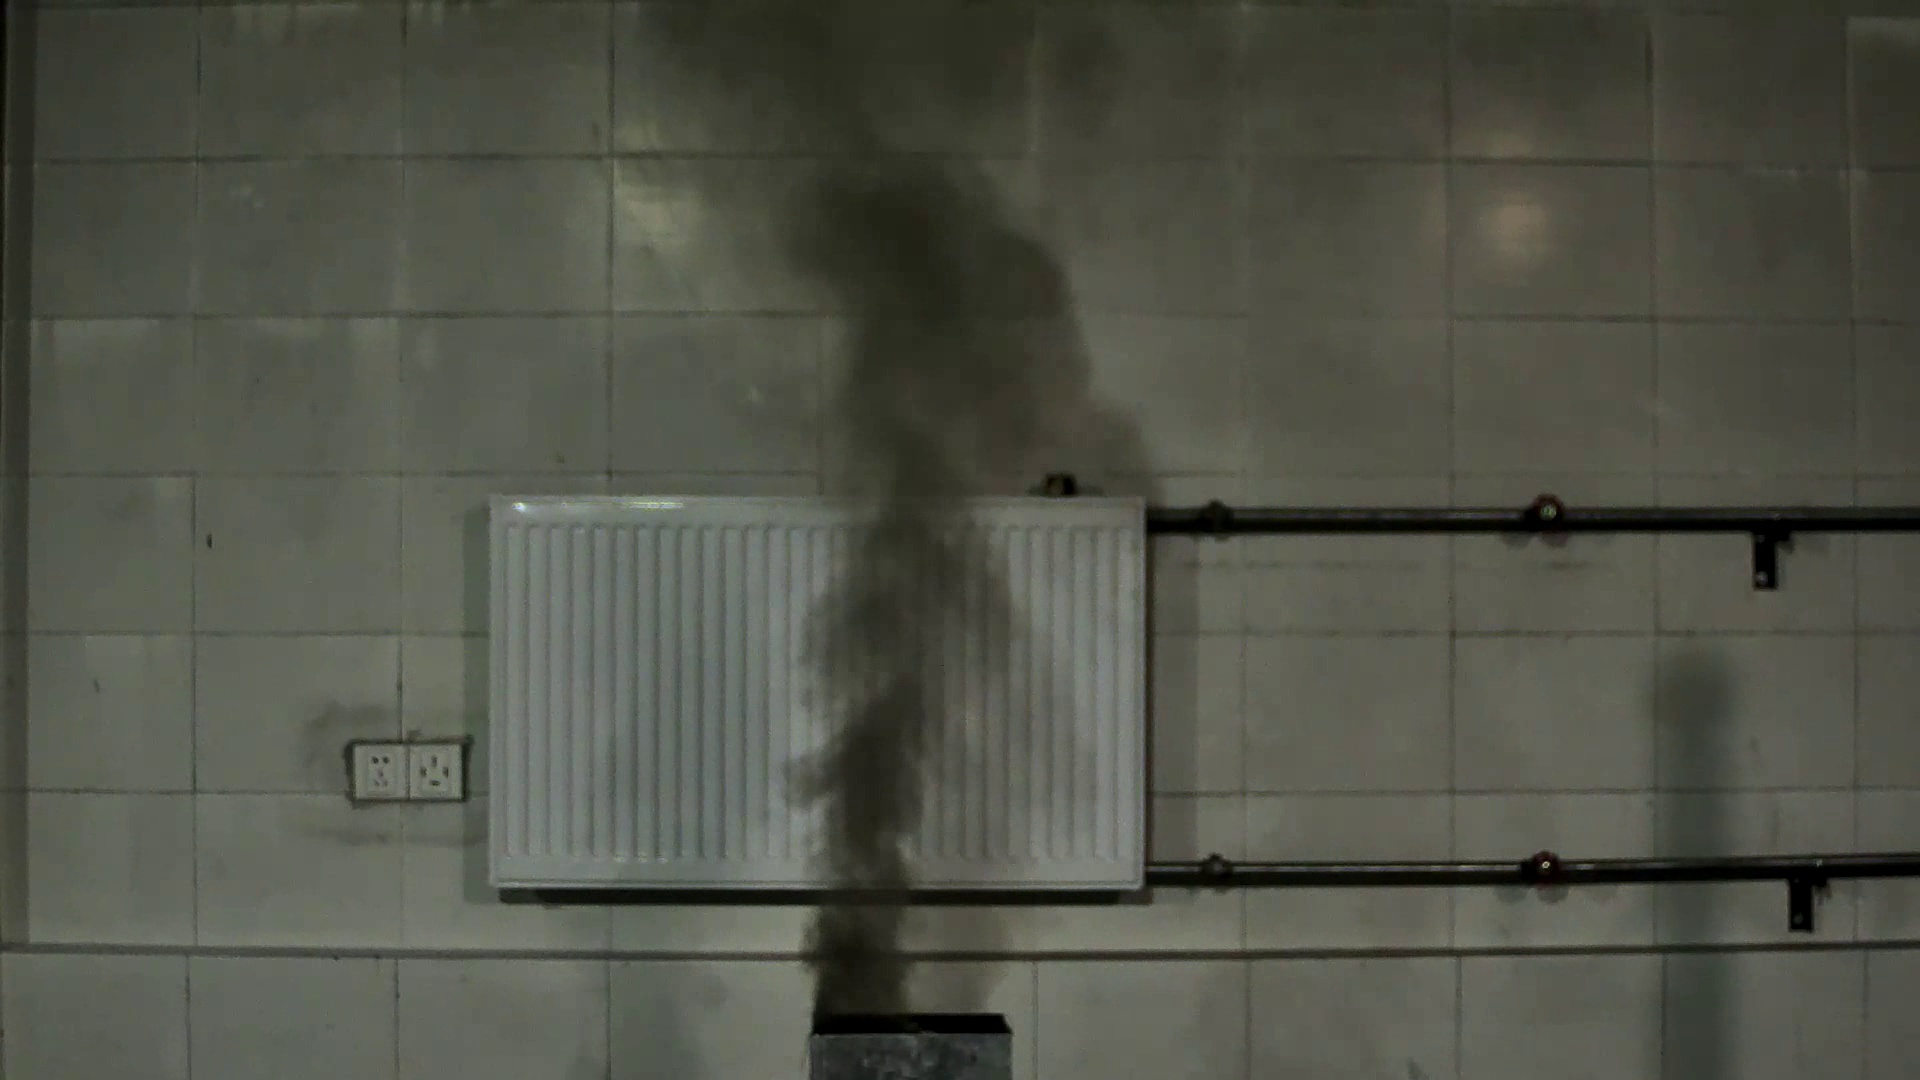smoke: (750, 167, 1096, 1007)
